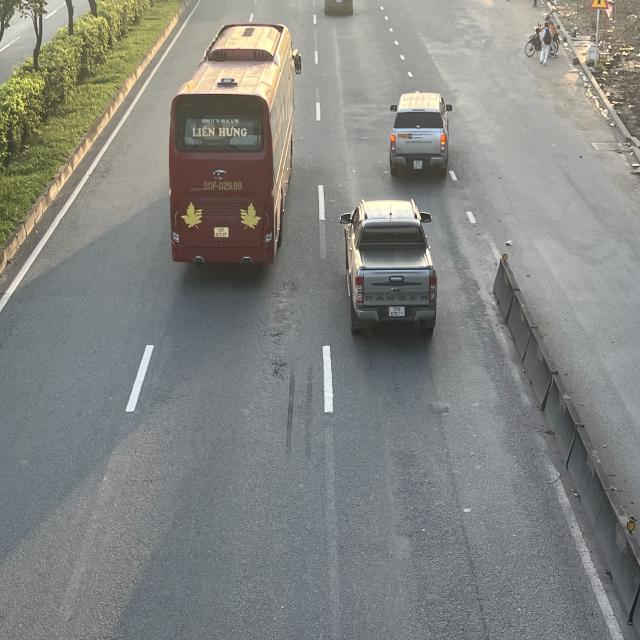car: (339, 200, 436, 336), (390, 95, 453, 181)
coach: (168, 22, 302, 267)
